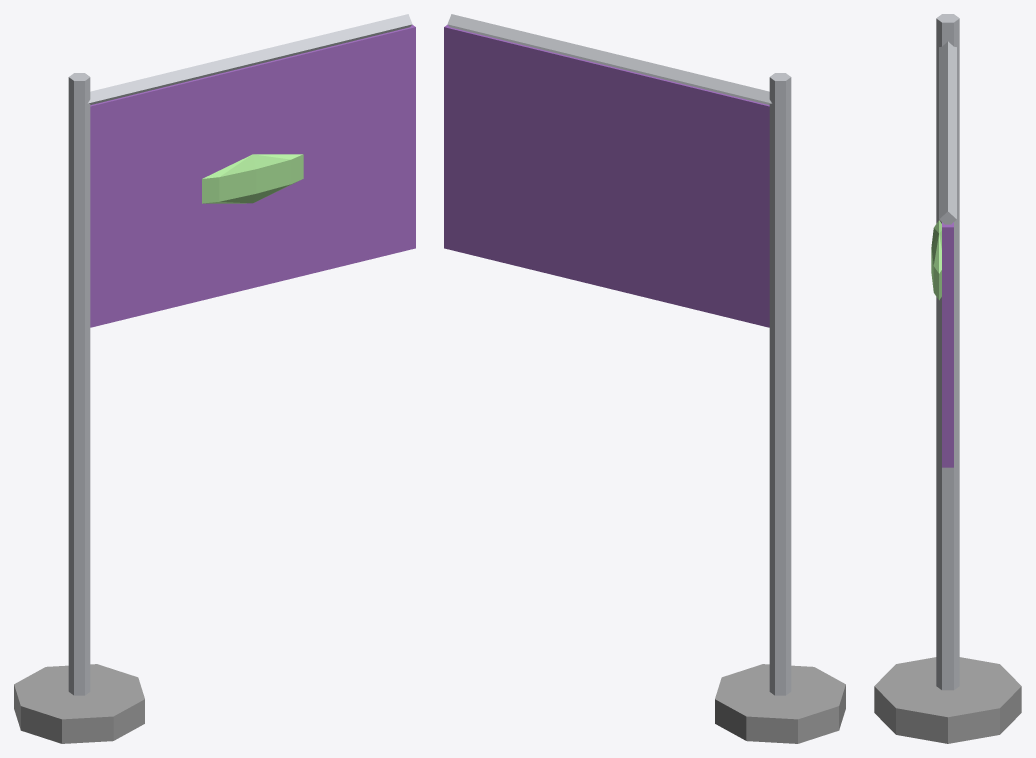
The model's file is arena_flag.glb.
3 views of the same model, side by side, from view 1: azimuth 30°, elevation 25°; view 2: azimuth 150°, elevation 25°; view 3: azimuth 270°, elevation 25° (orthographic). The views are drawn at different scales.
Parts seen in each view (by area): view 1: arena_flag; view 2: arena_flag; view 3: arena_flag.
Boxes of the visible parts, x1,y1,x2,y2 form: arena_flag: (14, 14, 415, 743); arena_flag: (444, 14, 845, 743); arena_flag: (874, 14, 1021, 743).
Size of the model in its own units: 1.67 by 2.6 by 0.5.
